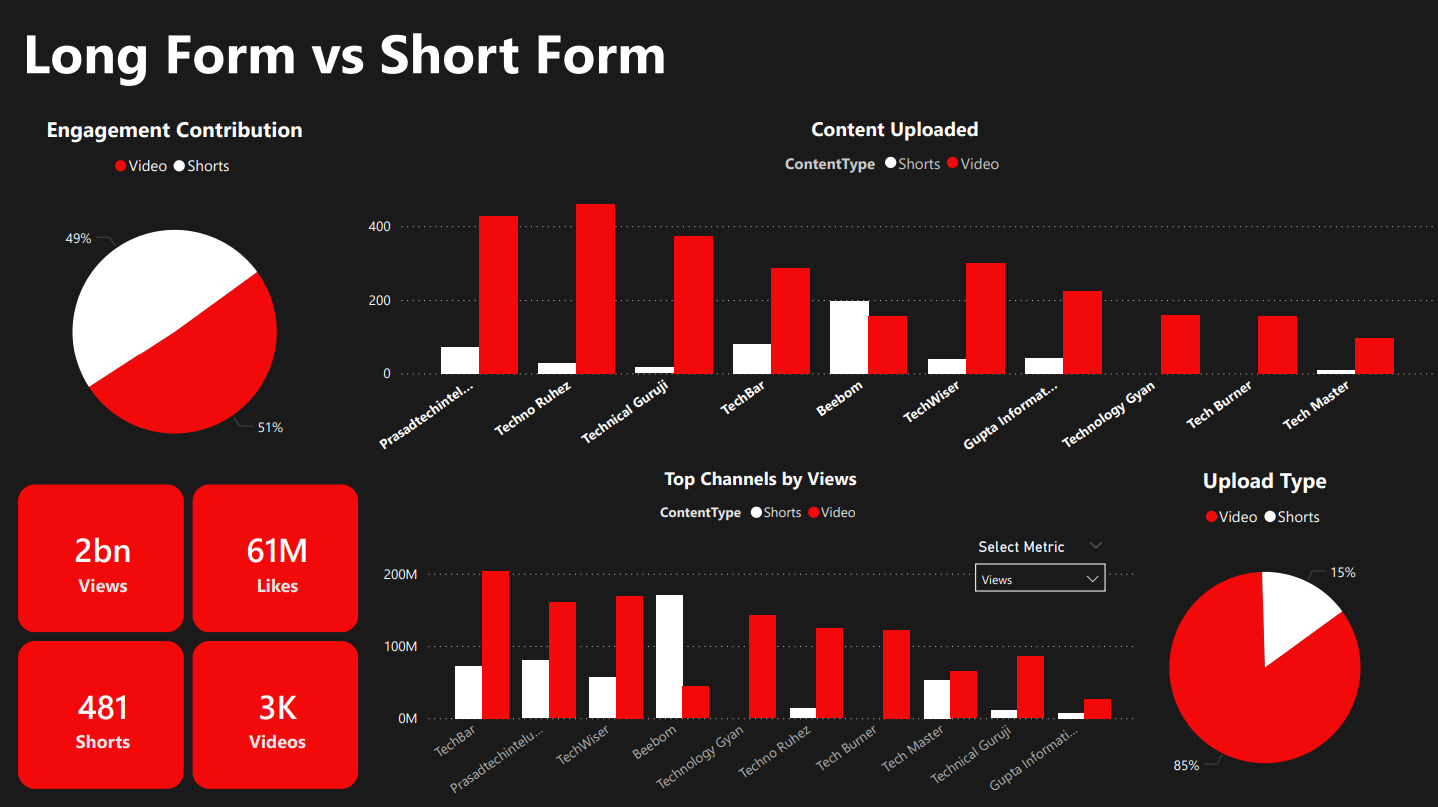

The dashboard page shown, as its layout file describes it:
{"tool":"powerbi","page":{"name":"4","canvas":[1280,720],"ordinal":3},"visuals":[{"type":"clusteredColumnChart","title":"Content Uploaded","fields":{"Category":["yt_data_videos.channelName"],"Y":["CountNonNull(yt_data_videos.videoTitle)"],"Series":["yt_data_videos.ContentType"]},"box":[311.6,103.5,968.6,311.6],"z":0},{"type":"pieChart","title":"Engagement Contribution","fields":{"Category":["yt_data_videos.ContentType"],"Y":["Avg(yt_data_videos.engangementRatio)"]},"box":[0,103.5,311.6,331.4],"z":1000},{"type":"clusteredColumnChart","fields":{"Y":["Metric Selector.Selected Metric Value"],"Category":["yt_data_videos.channelName"],"Series":["yt_data_videos.ContentType"]},"box":[336,415.1,681.4,304.7],"z":2000},{"type":"slicer","title":"Select Metrics","fields":{"Values":["Metric Selector.Metric"]},"box":[861.6,480.2,126.7,59.3],"z":3000},{"type":"textbox","box":[16.3,9.3,639.5,74.4],"z":4000},{"type":"pieChart","title":"Upload Type","fields":{"Y":["CountNonNull(yt_data_videos.ContentType)"],"Category":["yt_data_videos.ContentType"]},"box":[968.6,415.1,311.6,304.7],"z":5000},{"type":"cardVisual","fields":{"Data":["Sum(yt_data_videos.views)","Sum(yt_data_videos.likes)","yt_data_videos.Total Shorts","yt_data_videos.Total Videos"]},"box":[0,415.1,336,304.7],"z":6000}]}

Visuals, with their boxes in screenshot pixels (x1, y1, x2, y2), scaled from the page's 1280x720 canvas onto the 1438x807 screenshot:
"Content Uploaded" clusteredColumnChart: (left=350, top=116, right=1437, bottom=465)
"Engagement Contribution" pieChart: (left=0, top=116, right=350, bottom=487)
clusteredColumnChart - Metric Selector.Selected Metric Value x yt_data_videos.channelName: (left=377, top=465, right=1143, bottom=806)
"Select Metrics" slicer: (left=968, top=538, right=1110, bottom=605)
textbox: (left=18, top=10, right=737, bottom=94)
"Upload Type" pieChart: (left=1088, top=465, right=1437, bottom=806)
cardVisual - Sum(yt_data_videos.views) x Sum(yt_data_videos.likes): (left=0, top=465, right=377, bottom=806)
